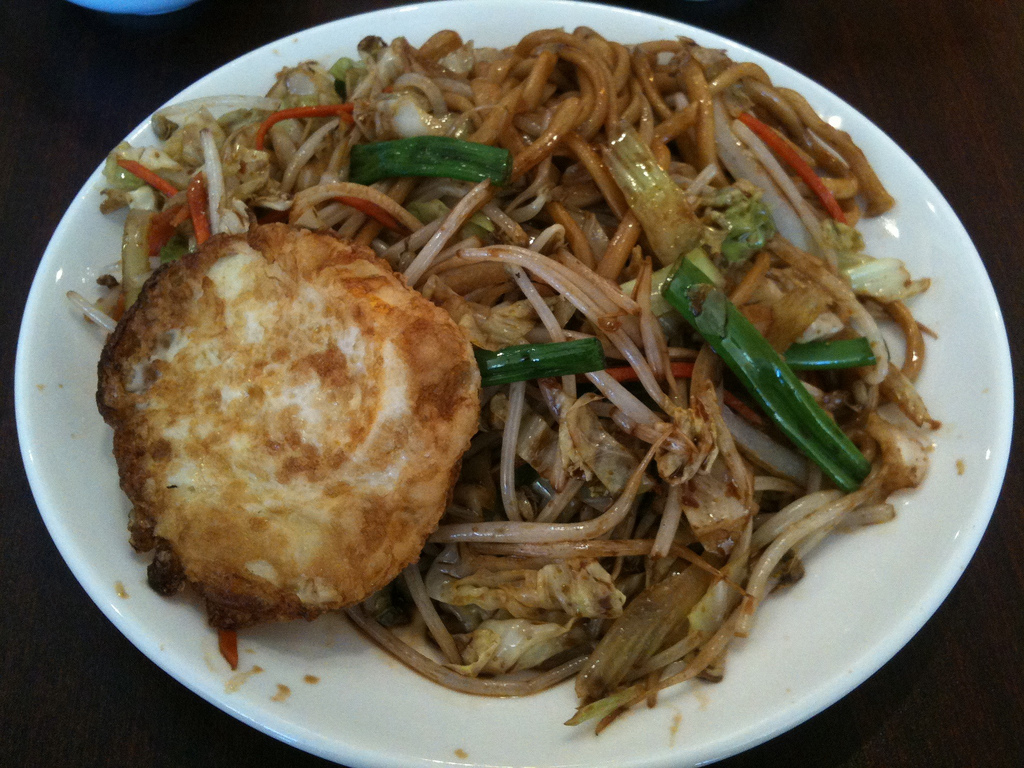fried egg: (101, 244, 488, 645)
